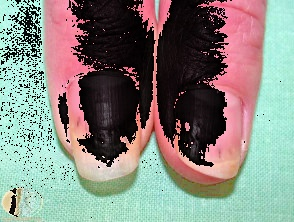Nail_psoriasis: (61, 98, 150, 172), (174, 128, 255, 182)
